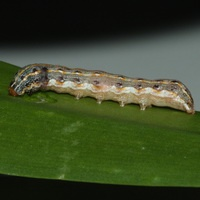insect: (9, 64, 194, 113)
